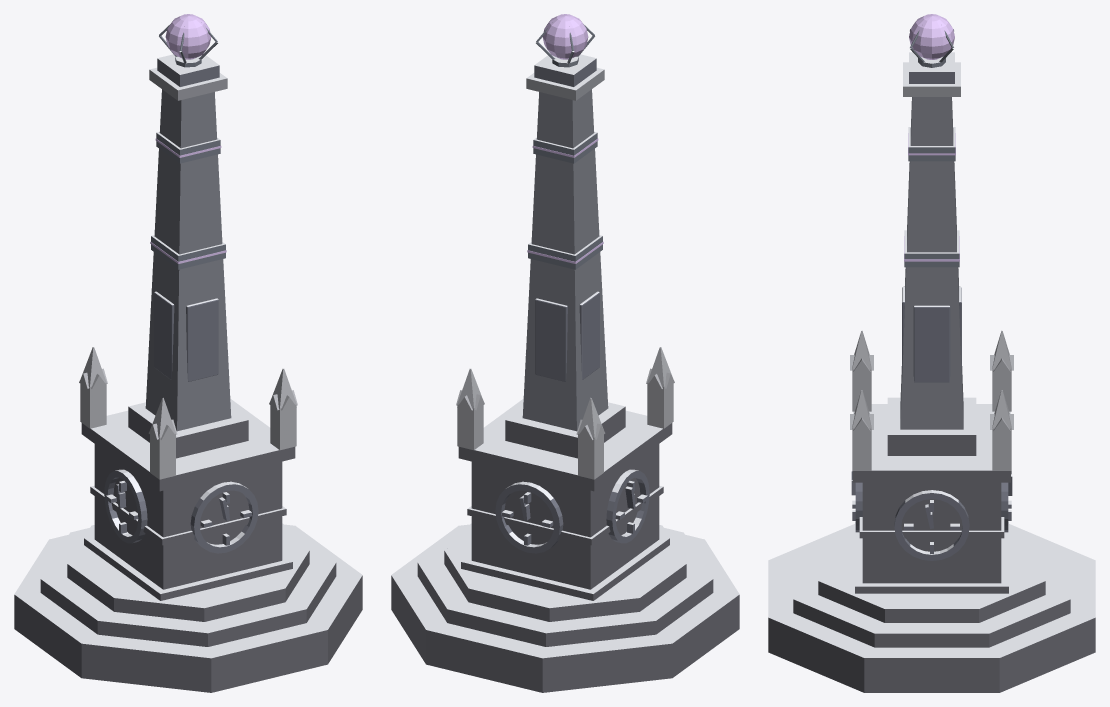
File: PR_Monumento_Reino.fbx
3 renders of one model, left to right at view 1: azimuth 30°, elevation 25°; view 2: azimuth 150°, elevation 25°; view 3: azimuth 270°, elevation 25°, orthographic.
Parts seen in each view (by area): view 1: PR_Monumento_Reino; view 2: PR_Monumento_Reino; view 3: PR_Monumento_Reino.
Part boxes in pixels (bbox=[...]): PR_Monumento_Reino: bbox=[14, 14, 362, 692]; PR_Monumento_Reino: bbox=[391, 14, 739, 692]; PR_Monumento_Reino: bbox=[768, 14, 1095, 692].
Bounding box in the file's own units: 8.5 × 17.42 × 8.5.
